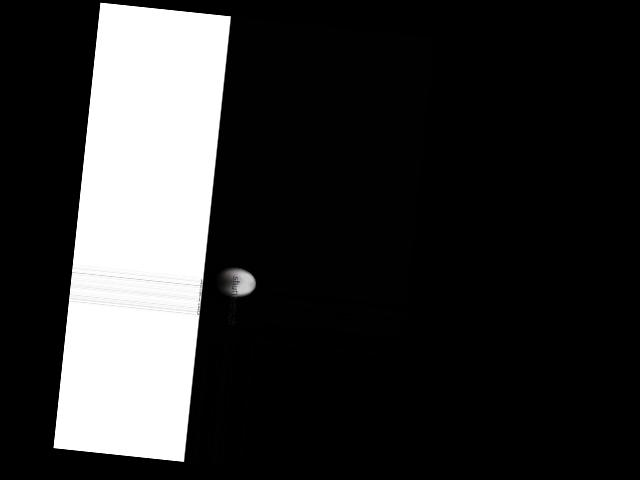egg: (213, 265, 257, 299)
